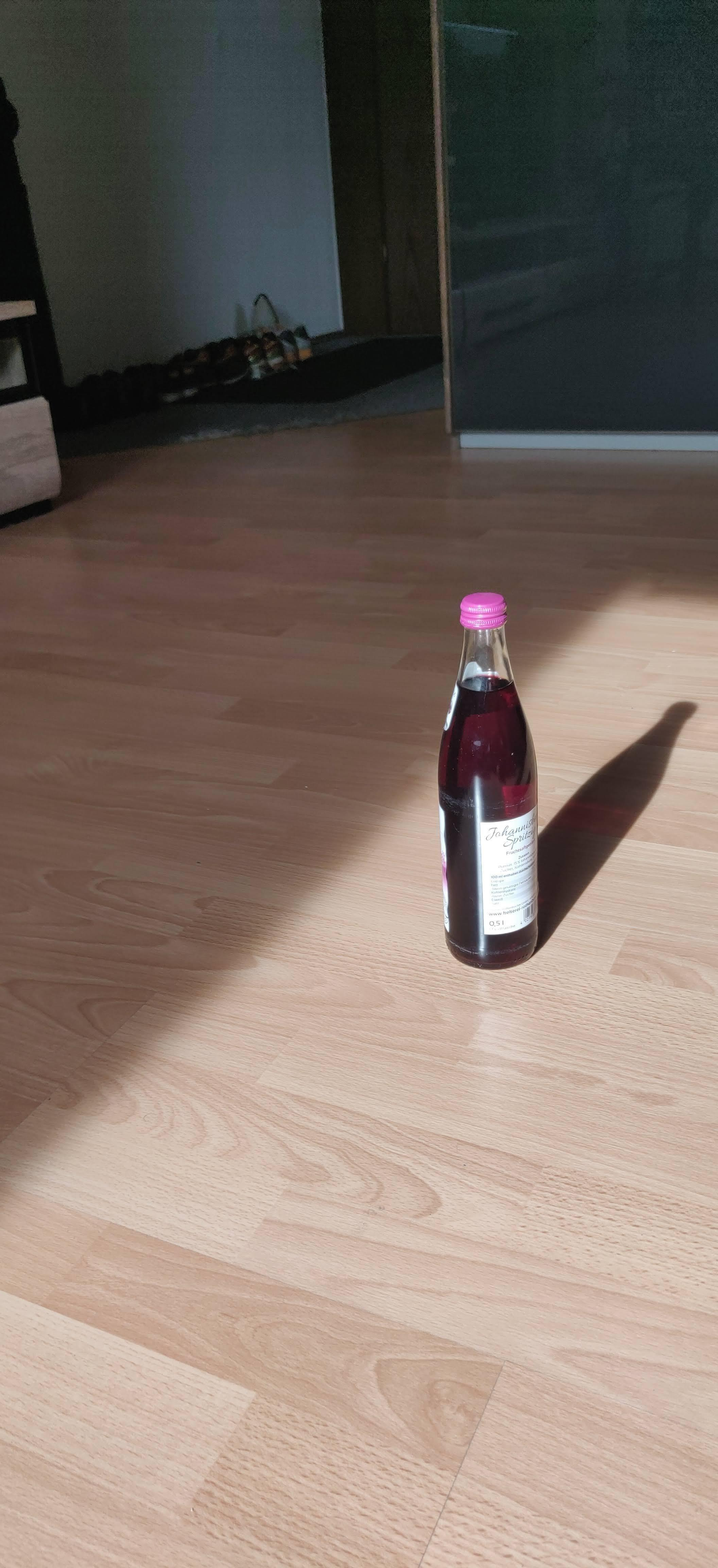bottle-glass: (437, 591, 541, 971)
